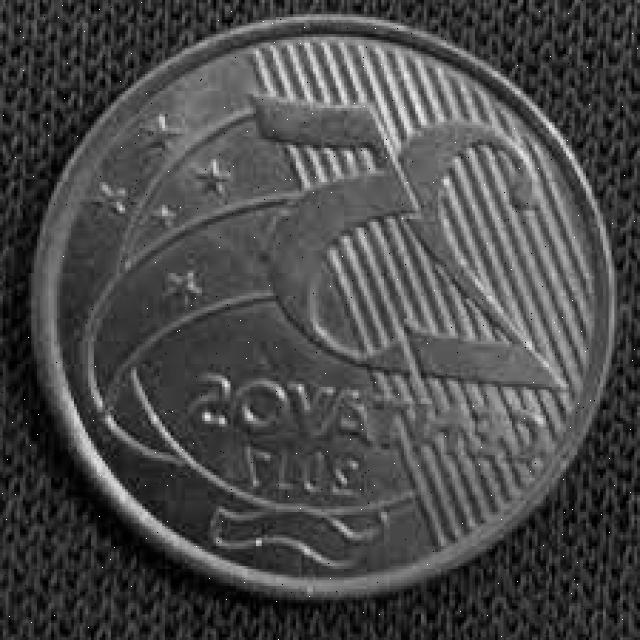25 cent: (28, 20, 616, 594)
